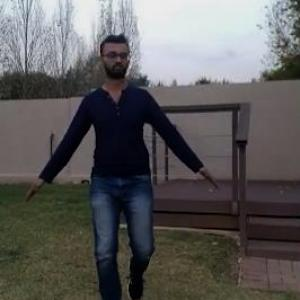land: (3, 4, 238, 299)
